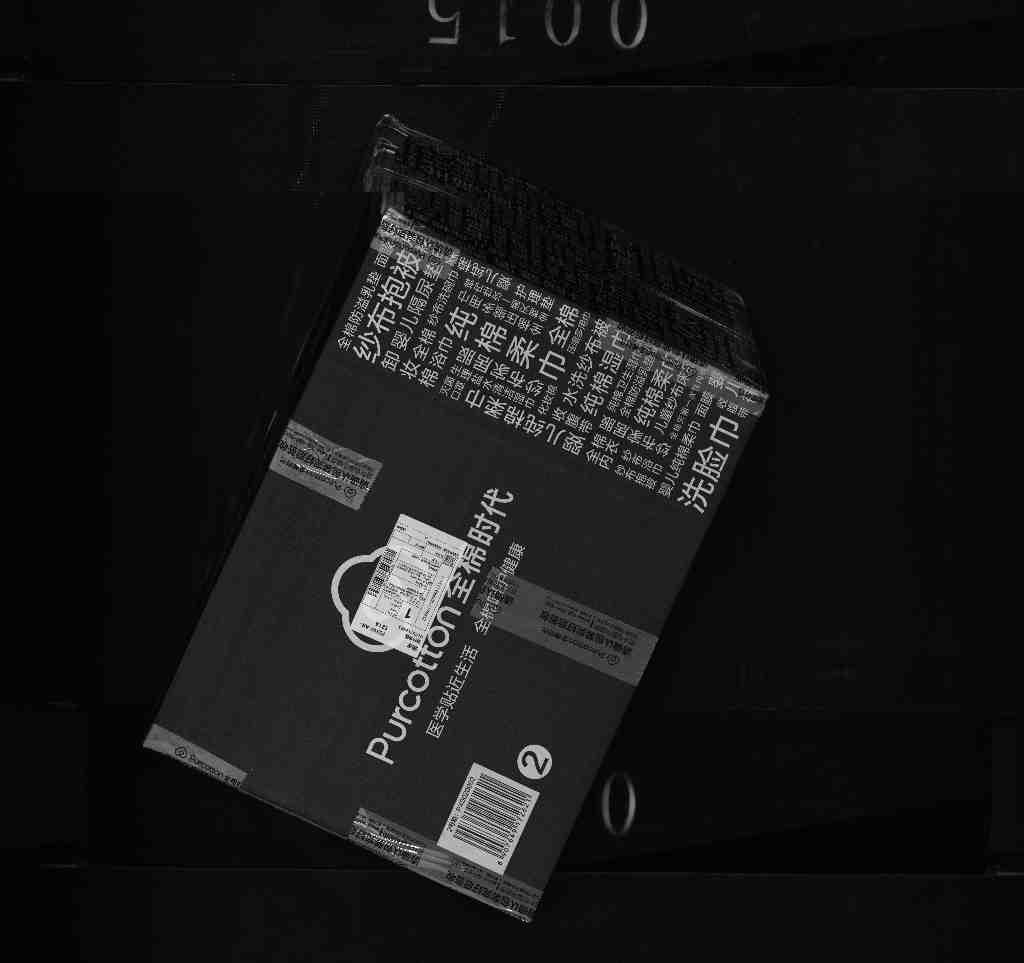box: (112, 115, 789, 936)
